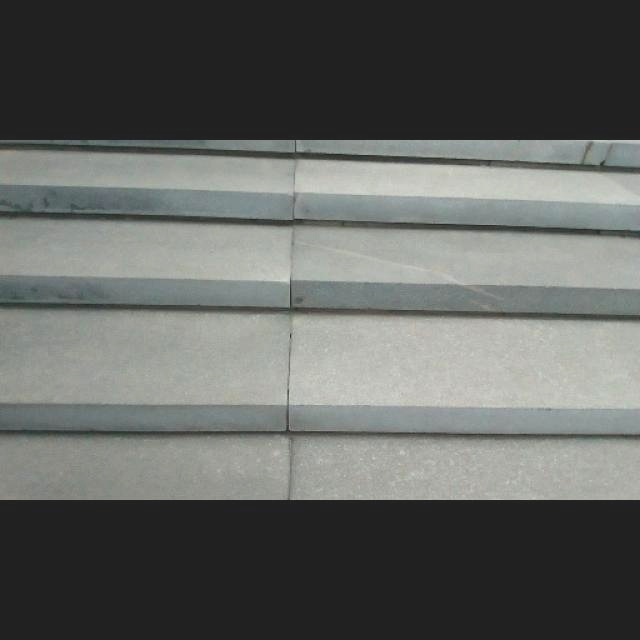stair: (0, 146, 636, 482)
